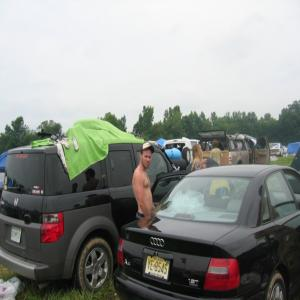Vehicle-registration-plate: (147, 255, 170, 279), (11, 228, 23, 245)
